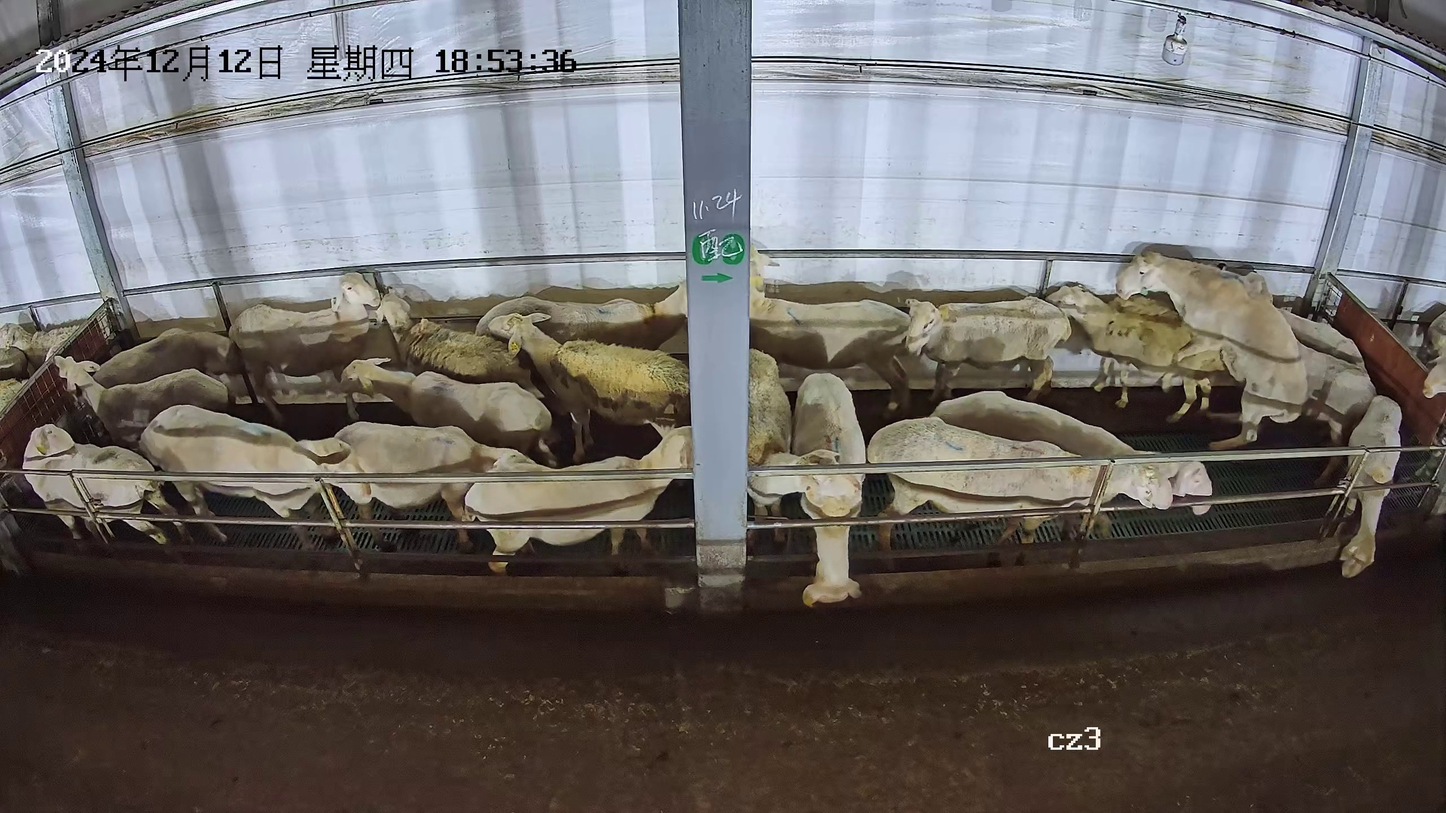Smounting: (1041, 250, 1309, 448)
mounted: (1044, 282, 1223, 423)
